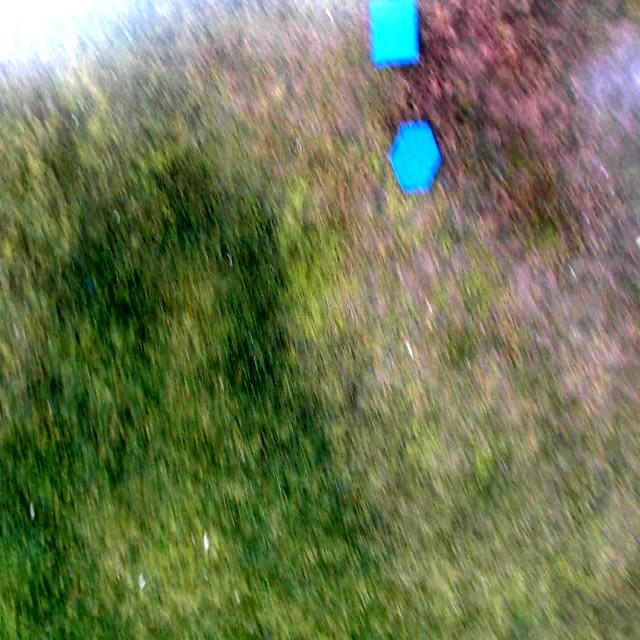blue_hexagon: (389, 120, 442, 193)
